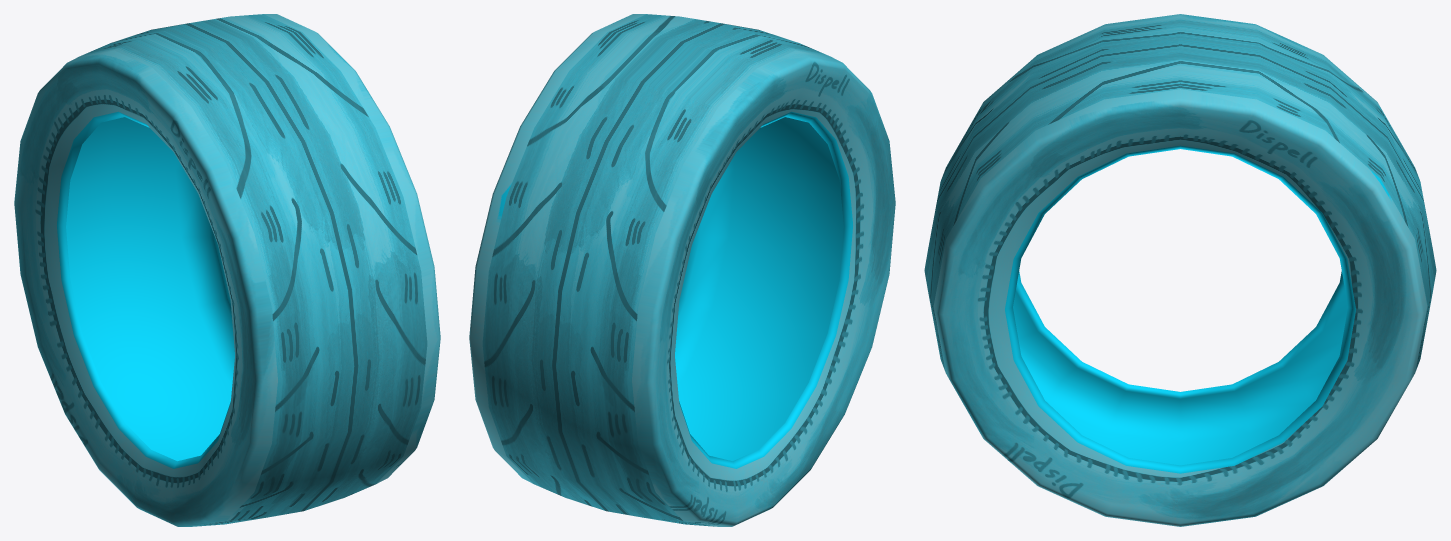
The model's file is wheel_blue.fbx.
3 views of the same model, side by side, from view 1: azimuth 30°, elevation 25°; view 2: azimuth 150°, elevation 25°; view 3: azimuth 270°, elevation 25° (orthographic).
Parts seen in each view (by area): view 1: wheel_blue; view 2: wheel_blue; view 3: wheel_blue.
Part boxes in pixels (x1=…): wheel_blue: x1=14, y1=14, x2=440, y2=526; wheel_blue: x1=469, y1=14, x2=895, y2=526; wheel_blue: x1=924, y1=14, x2=1436, y2=526.
Bounding box in the file's own units: 0.4002 × 0.9448 × 0.9734.
